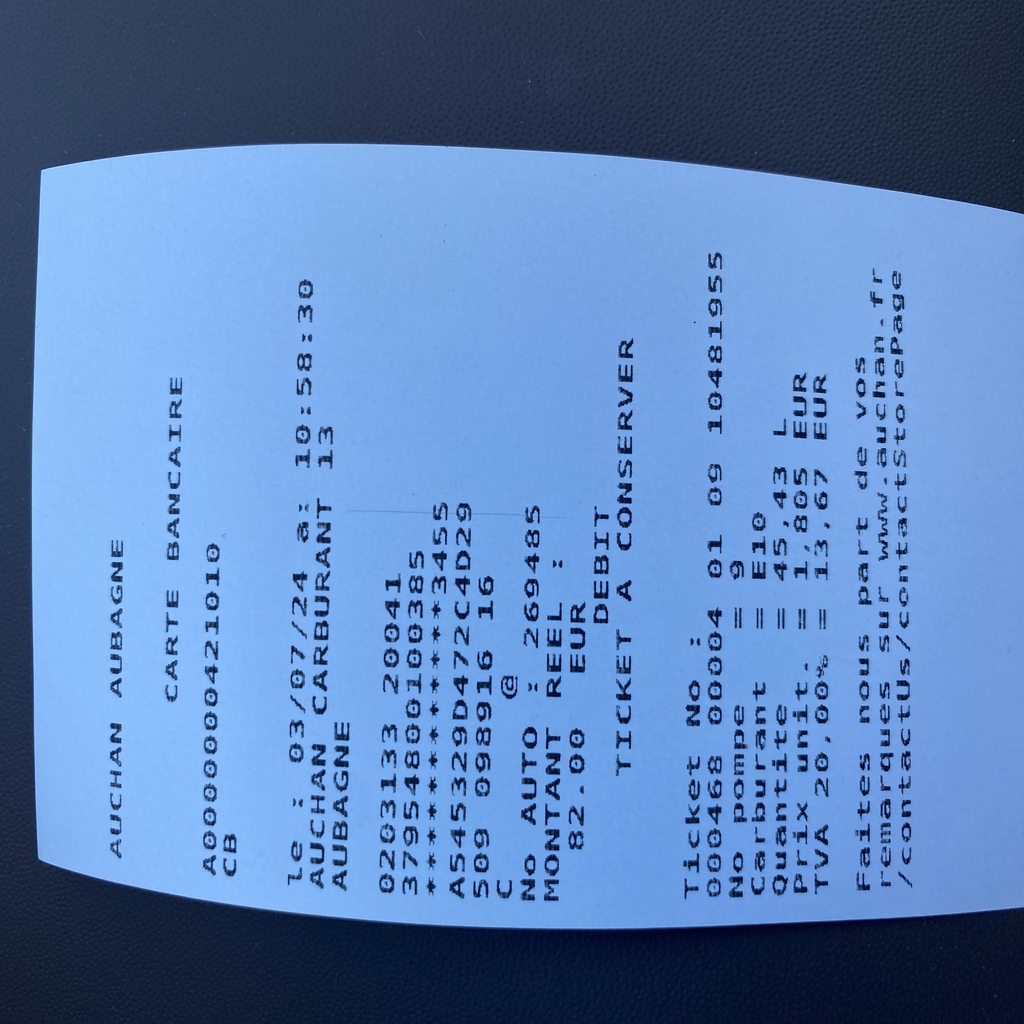recipt: (34, 143, 1018, 932)
